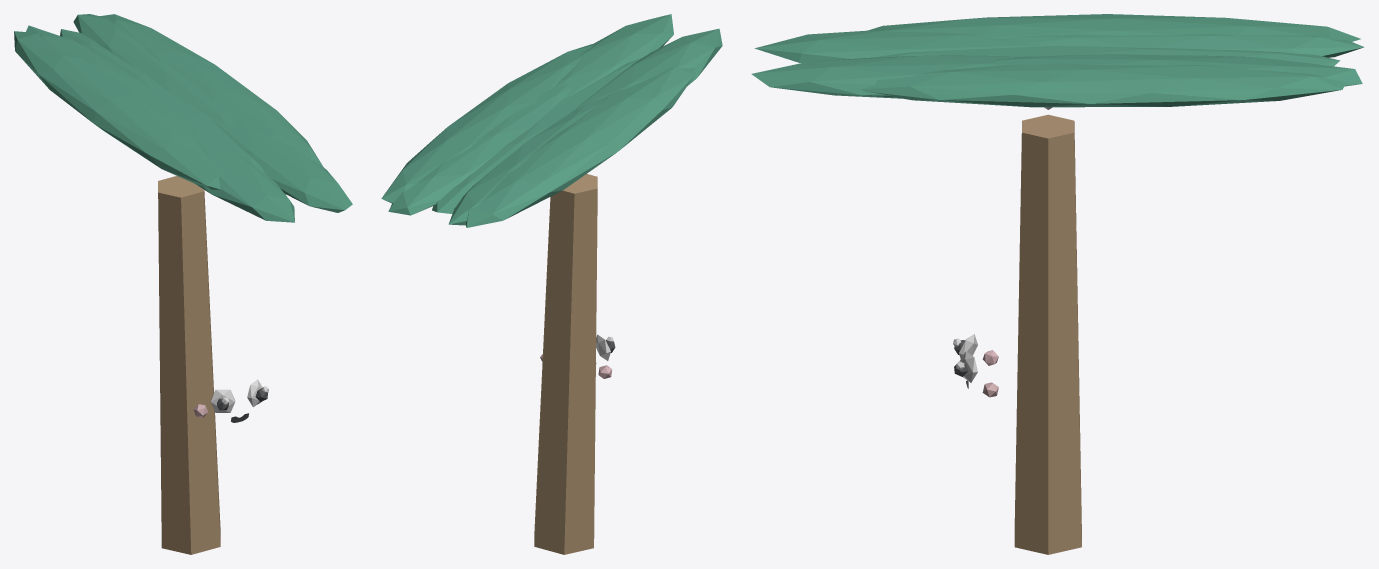
File: adonidia-merrillii.glb
3 renders of one model, left to right at view 1: azimuth 30°, elevation 25°; view 2: azimuth 150°, elevation 25°; view 3: azimuth 270°, elevation 25°, orthographic. The views are drawn at different scales.
Visible parts, largest first — view 1: trunk, frond3, frond0, frond1, frond2, frond6, frond5, frond4; view 2: trunk, frond3, frond0, frond6, frond1, frond2, frond5, frond4; view 3: trunk, frond0, frond3, frond1, frond2, frond4, frond6, frond5.
Boxes of the visible parts, <box> form: trunk: <box>158,176,220,554</box>; frond3: <box>14,31,221,189</box>; frond0: <box>100,14,324,168</box>; frond1: <box>206,114,352,212</box>; frond2: <box>181,115,294,222</box>; frond6: <box>73,14,238,124</box>; frond5: <box>60,29,286,195</box>; frond4: <box>26,25,190,131</box>; trunk: <box>534,174,597,554</box>; frond3: <box>466,67,695,227</box>; frond0: <box>381,44,593,203</box>; frond6: <box>388,84,571,215</box>; frond1: <box>556,14,673,101</box>; frond2: <box>574,28,722,110</box>; frond5: <box>432,58,641,213</box>; frond4: <box>448,97,605,225</box>; trunk: <box>1014,114,1081,554</box>; frond0: <box>861,63,1345,107</box>; frond3: <box>868,14,1360,41</box>; frond1: <box>751,55,1031,98</box>; frond2: <box>754,30,1047,62</box>; frond4: <box>1002,34,1364,57</box>; frond6: <box>993,54,1362,86</box>; frond5: <box>874,46,1340,66</box>.
Size of the model in its own units: 0.2312 by 0.6298 by 0.7099.
